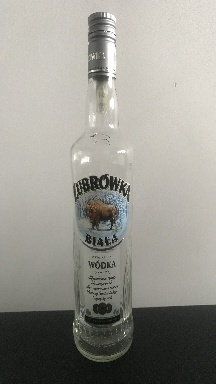butelka: (68, 8, 135, 364)
